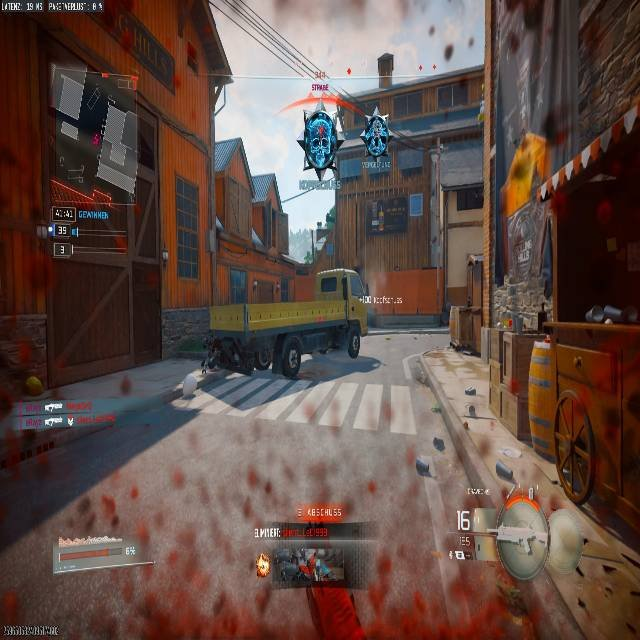player: (296, 109, 339, 181), (362, 110, 391, 165)
